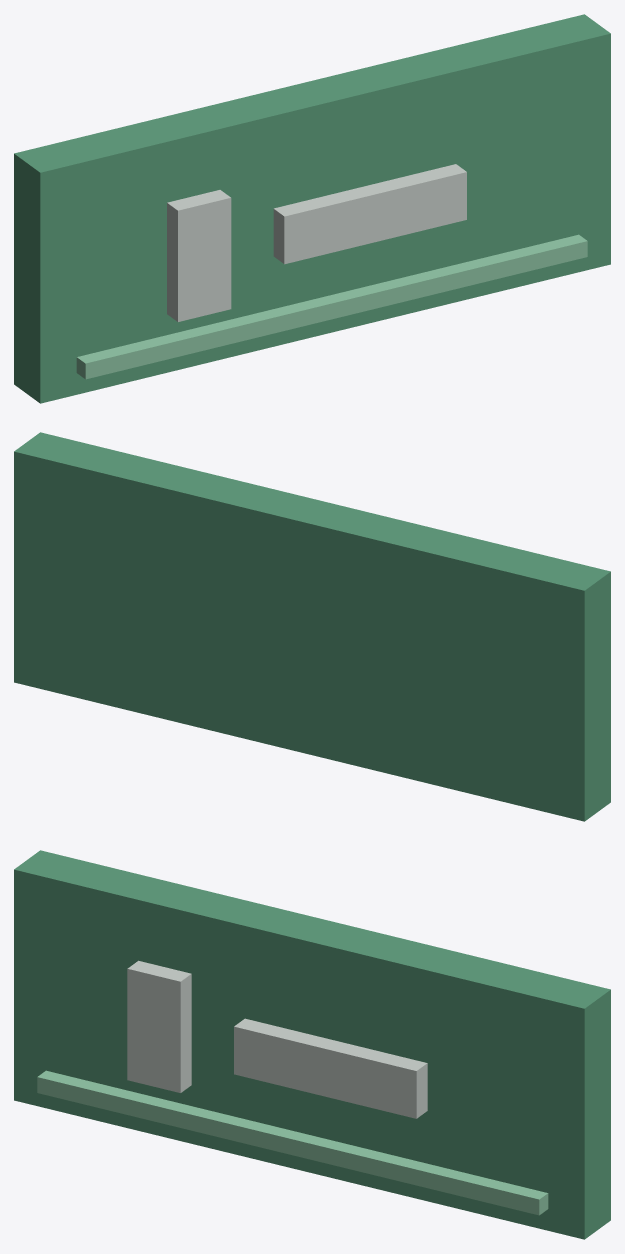
Rendered from exit_sign_lod1.glb.
3 views of the same model, one above another, from view 1: azimuth 30°, elevation 25°; view 2: azimuth 150°, elevation 25°; view 3: azimuth 330°, elevation 25° (orthographic).
Parts seen in each view (by area): view 1: part_0, part_3, part_1, part_2; view 2: part_0; view 3: part_0, part_3, part_1, part_2.
Part boxes in pixels (x1,y1,x2,y2): part_0: [14, 14, 610, 403]; part_3: [76, 234, 587, 379]; part_1: [273, 164, 466, 264]; part_2: [167, 190, 231, 321]; part_0: [14, 432, 610, 821]; part_0: [14, 850, 610, 1239]; part_3: [37, 1070, 548, 1215]; part_1: [234, 1018, 427, 1118]; part_2: [127, 960, 191, 1092].
Bounding box in the file's own units: 1.5 × 0.58 × 0.175.
